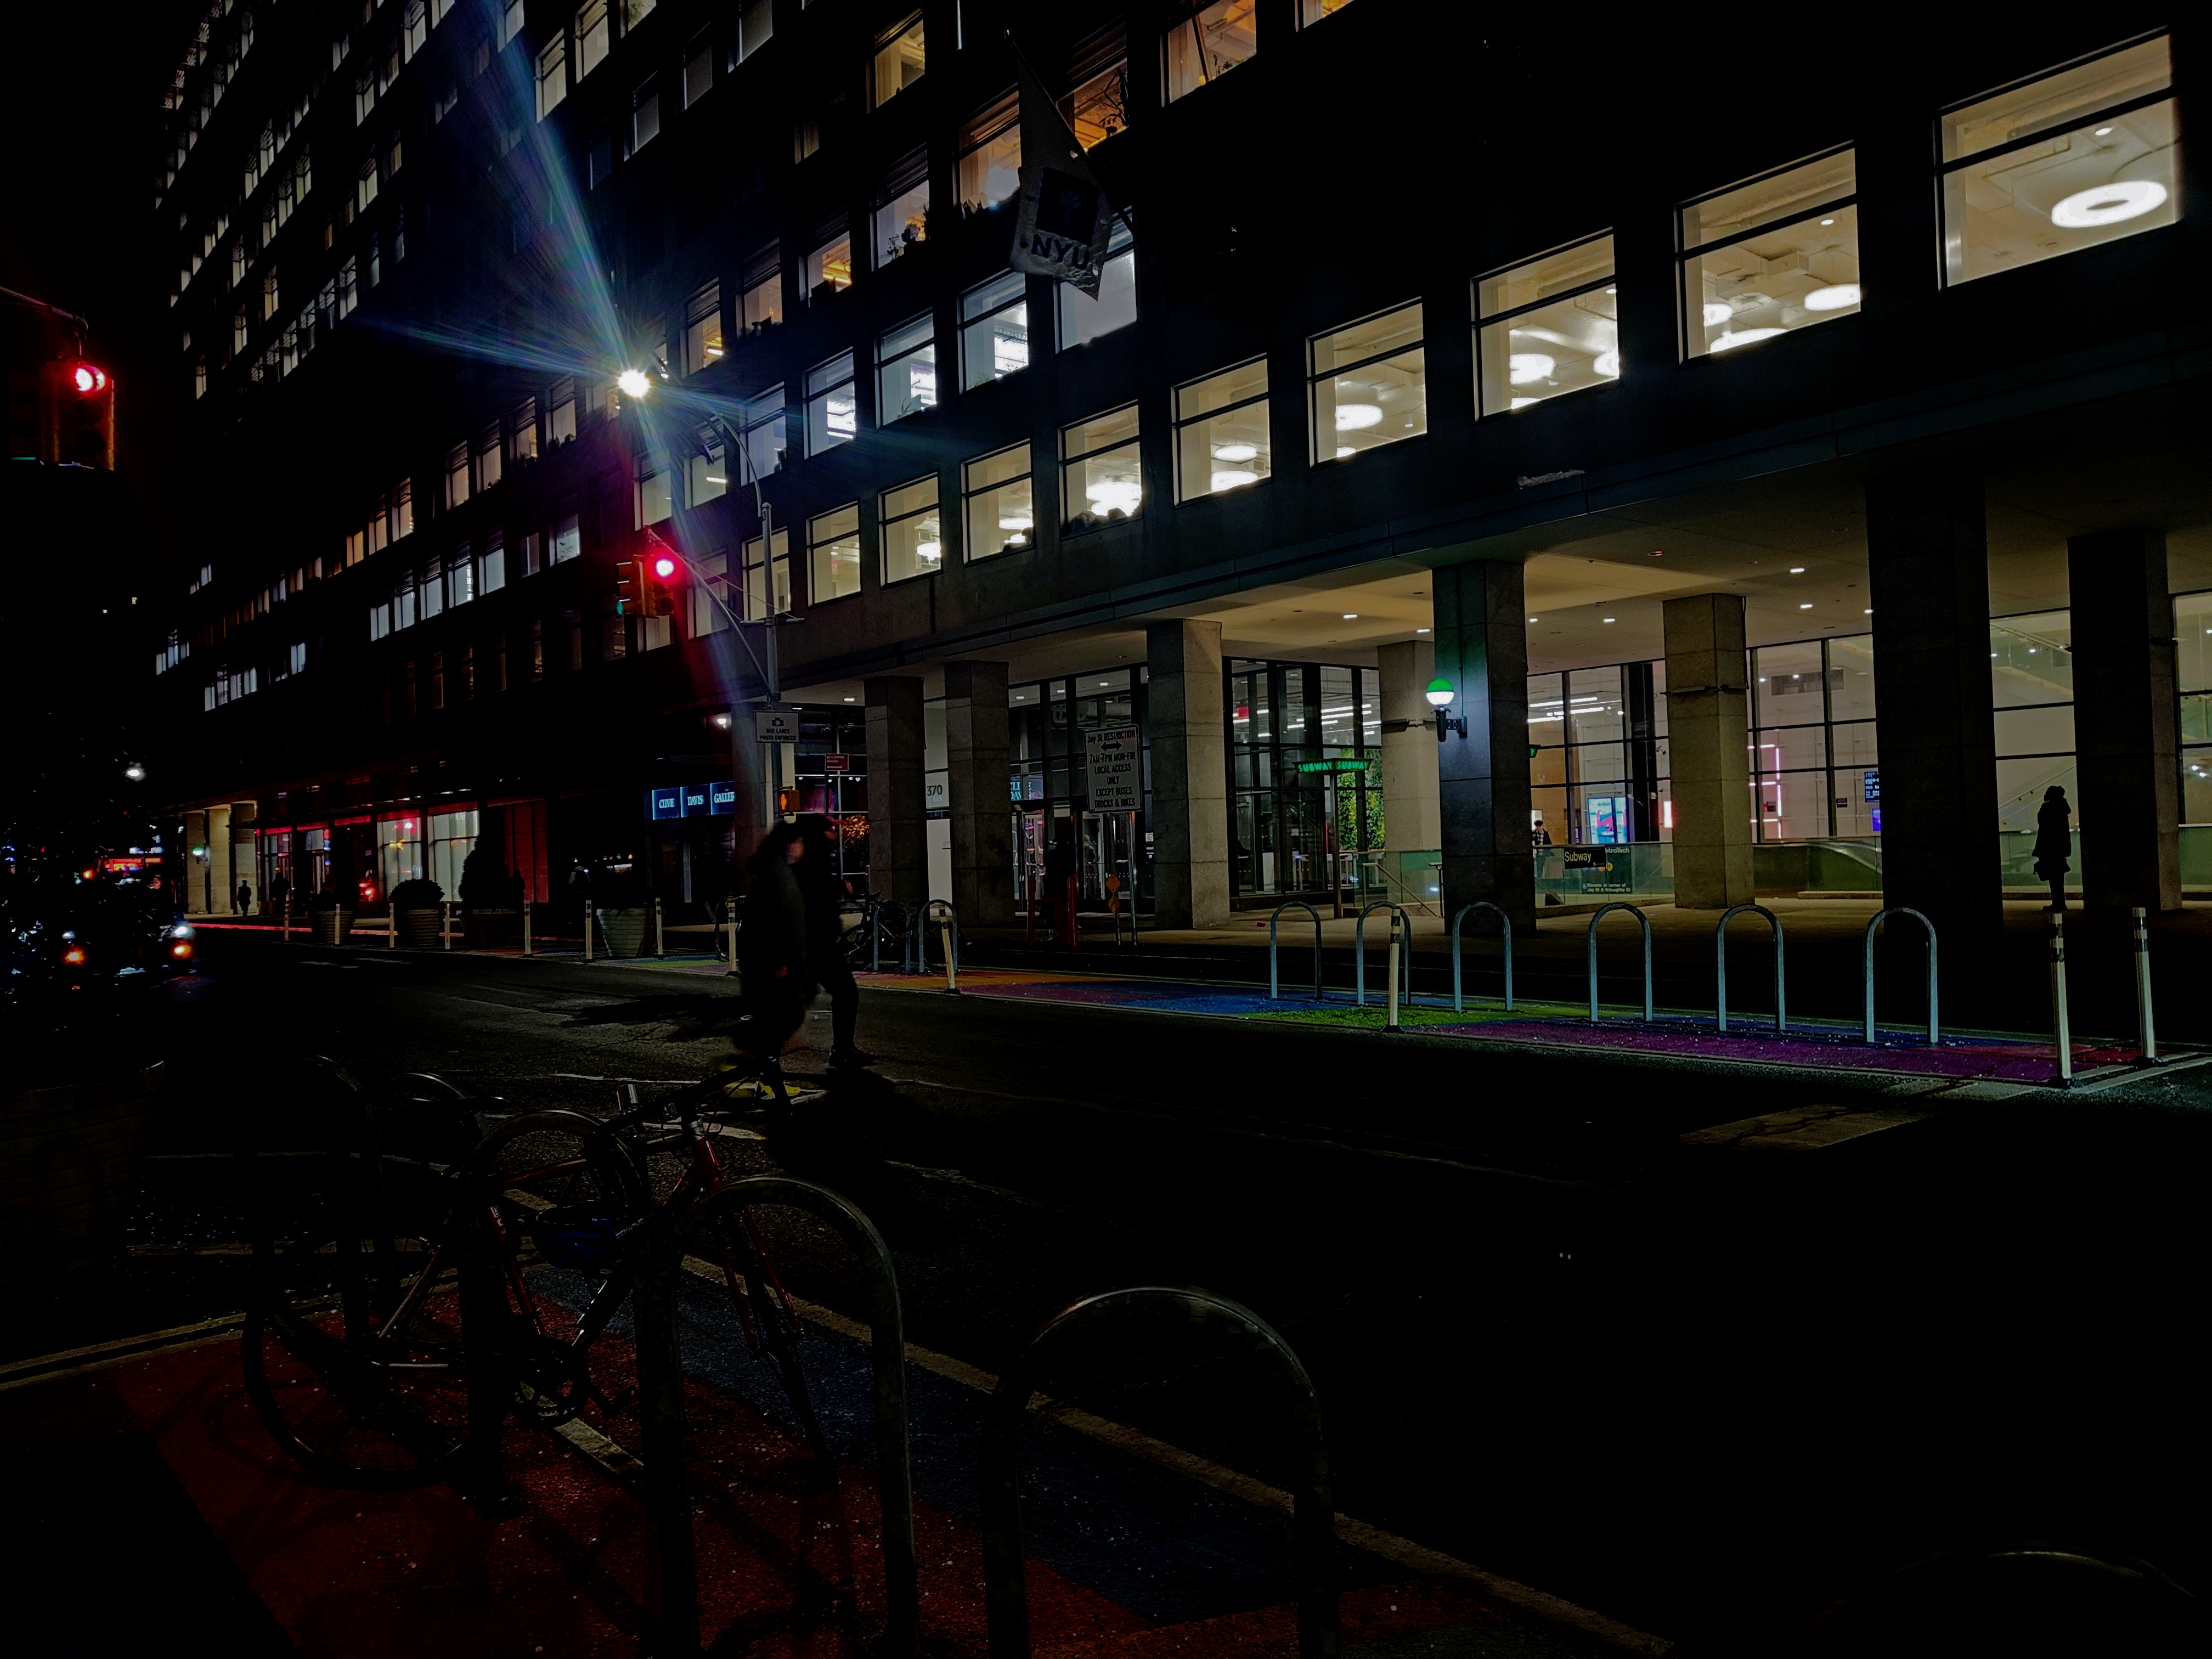car: (58, 881, 197, 995)
person: (804, 816, 887, 1074), (747, 822, 810, 1069), (2027, 783, 2075, 912), (1532, 821, 1556, 881), (567, 862, 590, 914), (270, 872, 290, 919), (238, 879, 252, 918)
